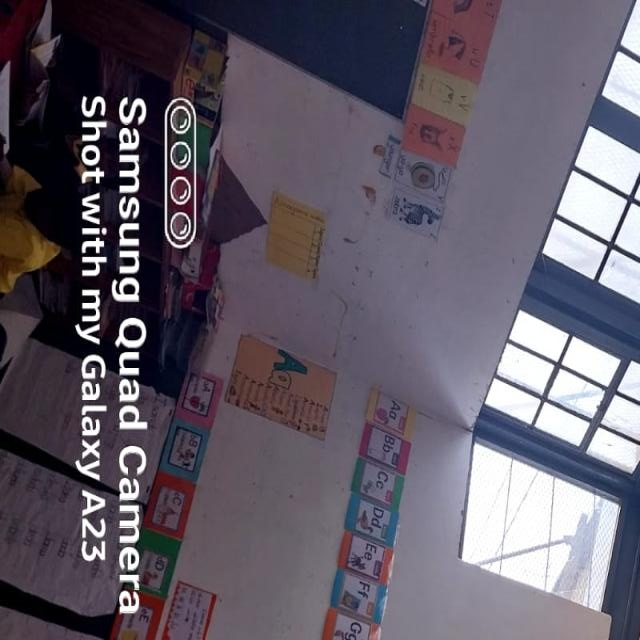fluorescent tube: (582, 573, 640, 640)
